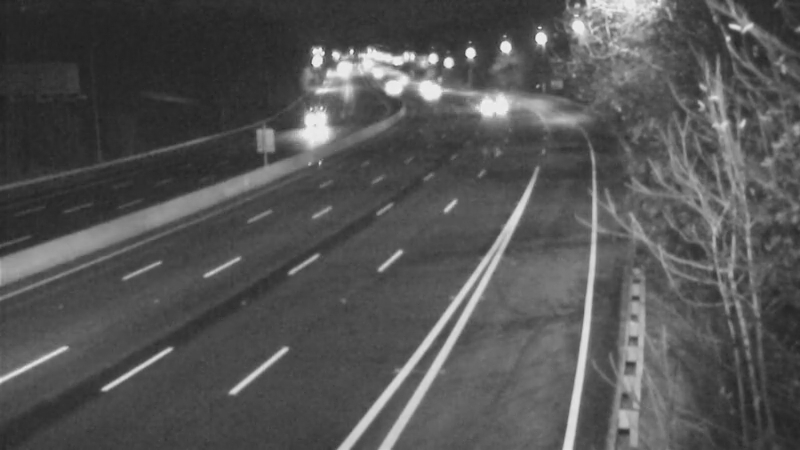vehicle: (398, 60, 448, 110), (369, 64, 419, 114), (405, 69, 455, 119), (474, 84, 524, 134), (293, 95, 343, 145)
